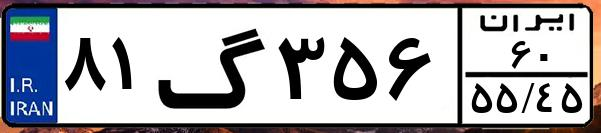0: (537, 27, 568, 80)
1: (110, 28, 156, 98)
3: (270, 28, 330, 110)
4: (535, 70, 560, 125)
5: (330, 28, 385, 110), (560, 70, 590, 125), (470, 70, 495, 125), (495, 70, 520, 125)
6: (385, 28, 445, 110), (508, 27, 537, 80)
8: (57, 26, 110, 100)
گ: (156, 12, 270, 120)
